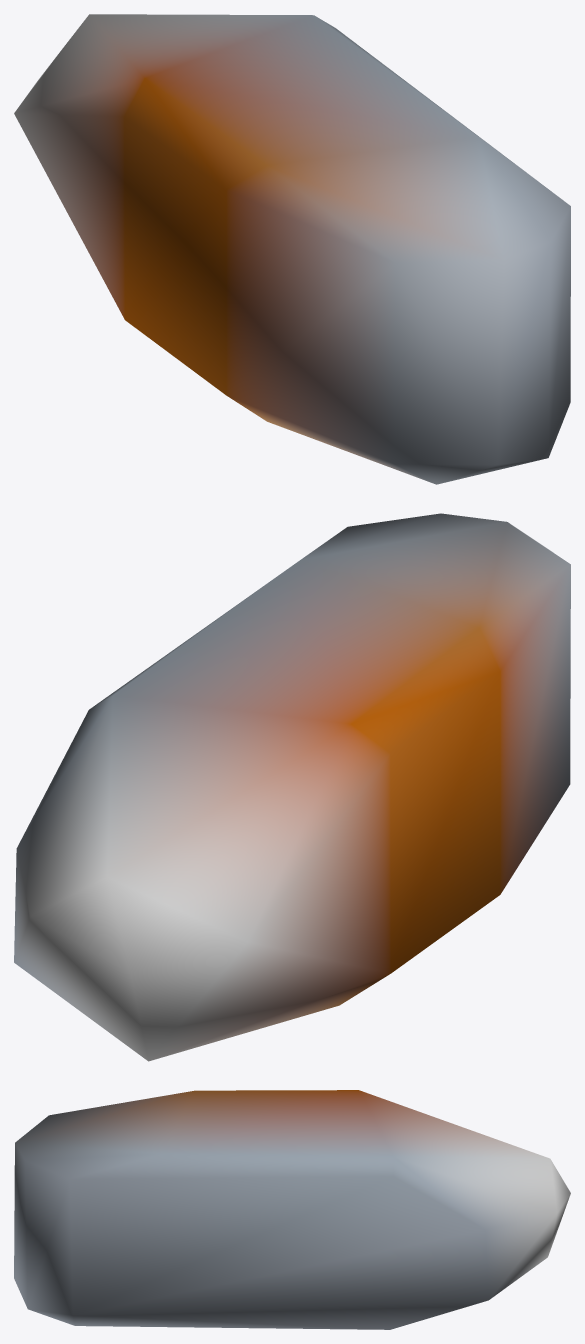
The model's file is fingerpart_col.obj.
3 views of the same model, one above another, from view 1: azimuth 30°, elevation 25°; view 2: azimuth 150°, elevation 25°; view 3: azimuth 270°, elevation 25° (orthographic). The views are drawn at different scales.
Size of the model in its own units: 0.017 by 0.0169 by 0.049.
